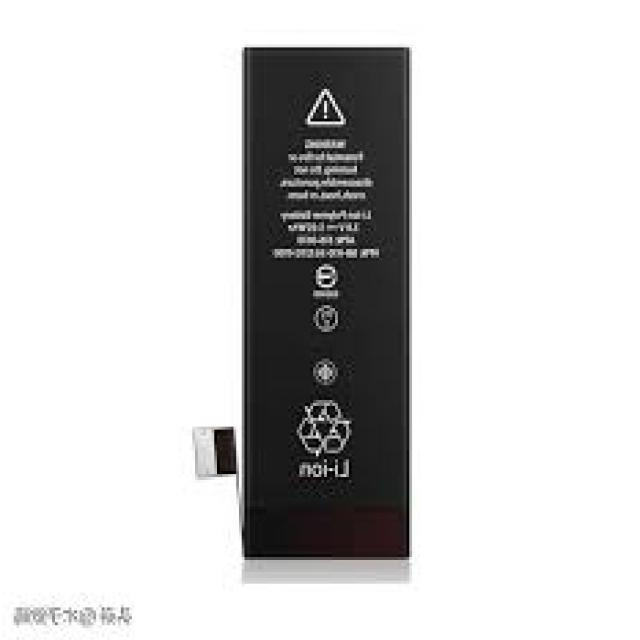battery: (187, 45, 413, 582)
